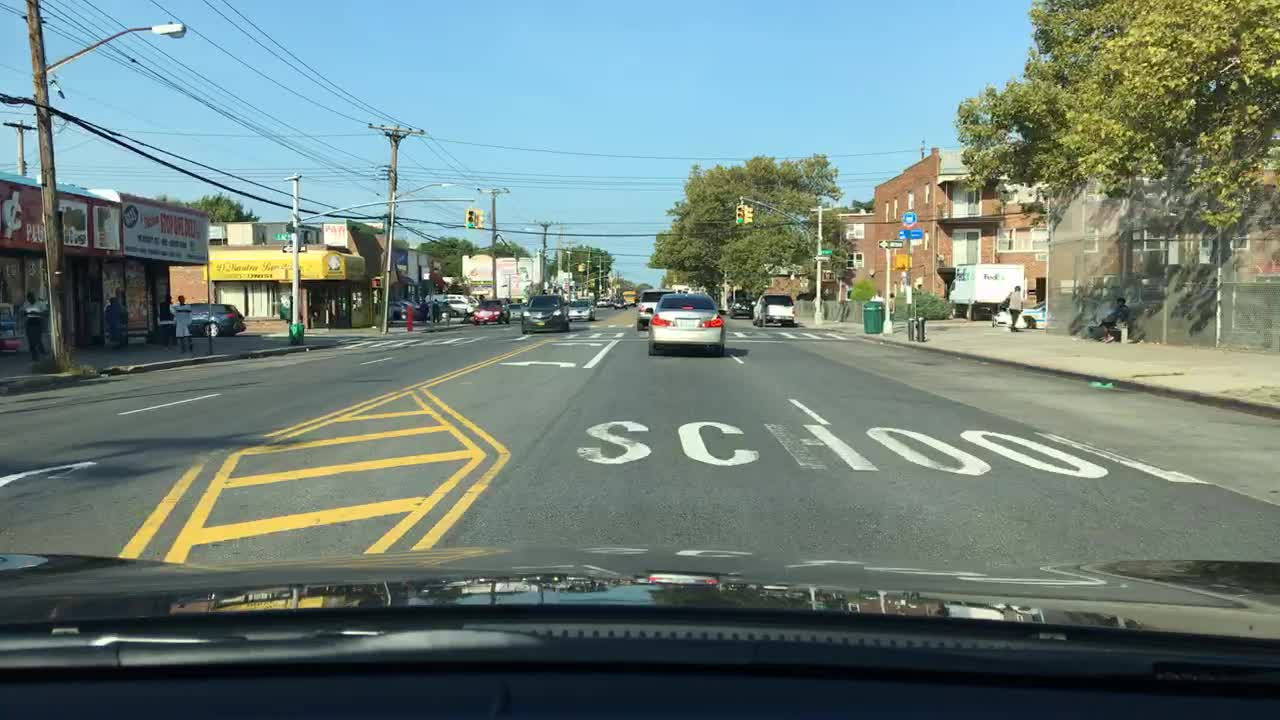bus: (621, 289, 636, 306)
car: (646, 290, 726, 354), (176, 300, 246, 338), (521, 292, 570, 332), (634, 287, 680, 329), (752, 292, 794, 329), (995, 300, 1045, 330), (473, 297, 508, 325), (567, 300, 595, 322), (728, 297, 755, 319), (417, 298, 453, 314), (445, 297, 476, 314), (505, 302, 528, 322), (386, 299, 406, 319), (433, 293, 479, 301), (399, 298, 419, 315), (466, 295, 479, 307), (613, 299, 628, 309), (595, 298, 608, 306), (604, 298, 613, 305), (609, 299, 615, 306)
person: (20, 289, 49, 361), (1095, 294, 1130, 344), (173, 293, 196, 354), (104, 297, 128, 354), (154, 292, 177, 350), (1006, 284, 1026, 332), (886, 292, 896, 328), (758, 296, 768, 328), (417, 297, 429, 323), (867, 289, 885, 304), (431, 297, 441, 322), (811, 292, 822, 311), (443, 302, 452, 324)
traffic light: (893, 253, 913, 269), (474, 208, 485, 230), (464, 208, 474, 230), (743, 204, 754, 224), (371, 274, 384, 290), (277, 265, 289, 282), (736, 202, 744, 225), (576, 260, 586, 272)
traffic sign: (900, 210, 916, 227), (280, 244, 307, 254), (272, 231, 298, 241), (878, 240, 903, 248), (899, 230, 922, 238), (813, 254, 831, 262), (283, 221, 293, 233), (818, 248, 833, 254)
truck: (947, 261, 1024, 320)
